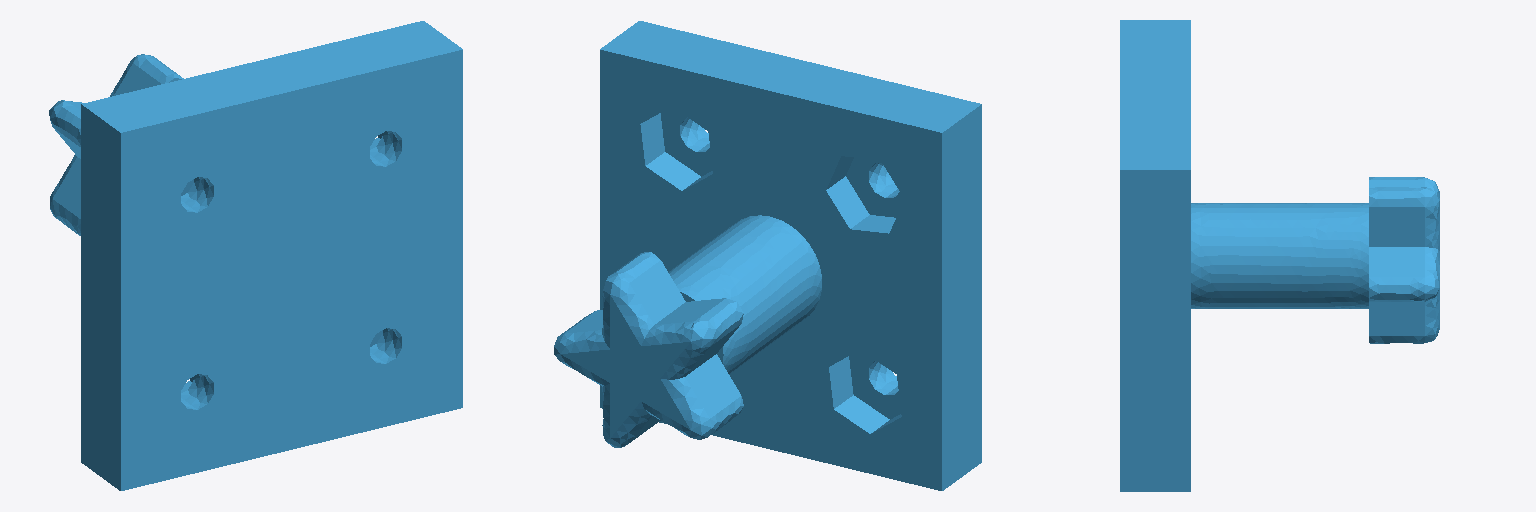
URDF robot description (star):
<?xml version="1.0"?>

<robot name="star">
	<link name="world">
        </link>

        <joint name="world_to_indenter" type="prismatic">
                <parent link="world"/>
                <child link="indenter"/>
                <origin rpy="0.0 0.0 0.0" xyz="0.0 0.0 0.0"/>
                <axis xyz="0 1 0"/>
                <dynamics damping="0.0" friction="0.0"/>
                <limit lower="0.0" upper="0.1" velocity="1e9" effort="1e9"/>
        </joint>

	<link name="indenter">
		<visual>
			<origin rpy="0.0 0.0 0.0" xyz="0.0 0.0 0.0"/>
			<geometry>
				<mesh filename="../meshes/star_0.2.stl" scale="0.001 0.001 0.001"/>
			</geometry>
		</visual>
		<collision>
			<origin rpy="0.0 0.0 0.0" xyz="0.0 0.0 0.0"/>
			<geometry>
				<mesh filename="../meshes/star_0.2.stl" scale="0.001 0.001 0.001"/>
			</geometry>
		</collision>
		<!-- <inertial>
			<origin rpy="0.0 0.0 0.0" xyz="0.0 -14.0636e-3 0.0"/>
			<mass value="0.00075752"/>
			<inertia ixx="2.03201e-8" iyy="1.24370e-8" izz="1.90589e-8" ixy="0.0" ixz="-1.96737e-15" iyz="0.0"/>
		</inertial> -->
	</link>
</robot>

--- Render facts (derived) ---
The picture shows the robot from 3 angles, left to right: view 1: azimuth 30°, elevation 25°; view 2: azimuth 150°, elevation 25°; view 3: azimuth 270°, elevation 25°; orthographic projection.
Robot: star — 2 links, 1 joints (1 prismatic); root link world; default pose: every joint at zero.
Links seen in each view (by area): view 1: indenter; view 2: indenter; view 3: indenter.
Link boxes in pixels (left/top/right/bottom): indenter: left=49, top=21, right=462, bottom=490; indenter: left=554, top=21, right=981, bottom=490; indenter: left=1120, top=20, right=1439, bottom=491.
Size in the robot's own frame: 0.02 by 0.018 by 0.02 metres.
Meshes: 1 distinct files referenced, 1 mesh visuals loaded (1 ASCII STL).
